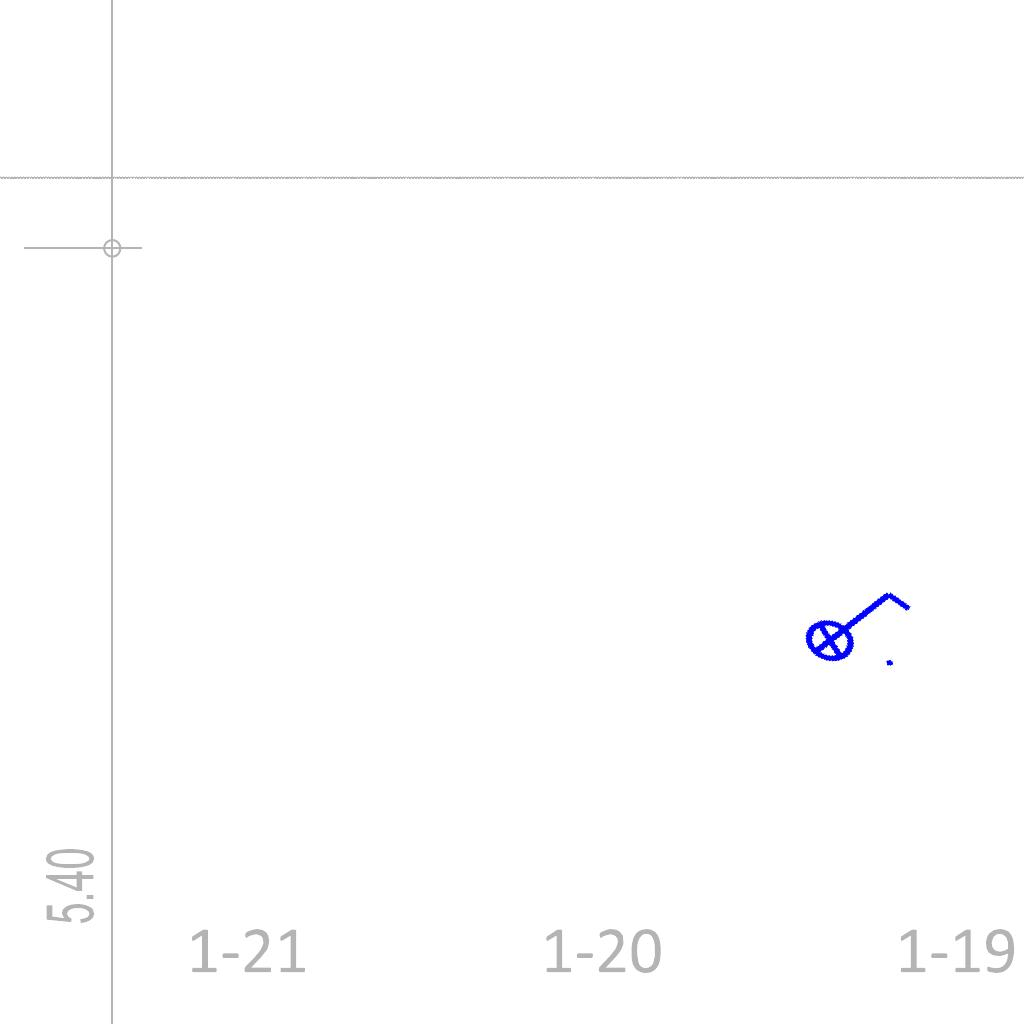Ausschalter_beleuchtet: (785, 557, 925, 687)
